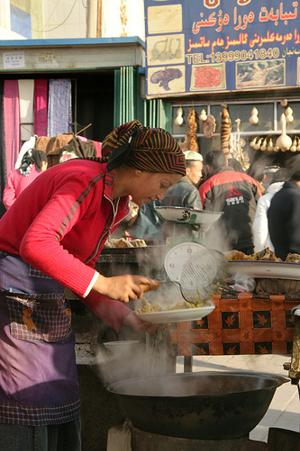person: (2, 120, 186, 450)
